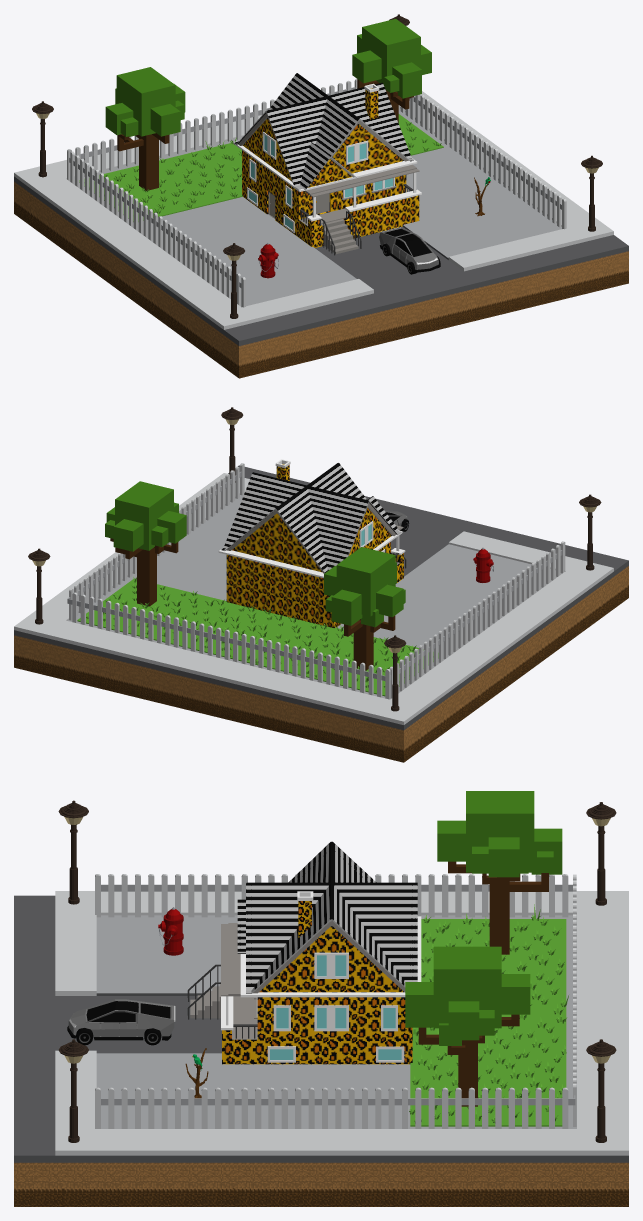
3 renders of one model, top to bottom at view 1: azimuth 30°, elevation 25°; view 2: azimuth 150°, elevation 25°; view 3: azimuth 270°, elevation 25°, orthographic. The views are drawn at different scales.
Visible parts, largest first — view 1: Cube.004, Cube.637, VEHICLES_CYBERTRUCK, OBJRANDOM_FIRE_HYDRANT; view 2: Cube.004, Cube.637, OBJRANDOM_FIRE_HYDRANT; view 3: Cube.004, Cube.637, VEHICLES_CYBERTRUCK, OBJRANDOM_FIRE_HYDRANT.
Part boxes in pixels (x1,y1,x2,y2): Cube.004: [14, 14, 628, 378]; Cube.637: [233, 73, 421, 255]; VEHICLES_CYBERTRUCK: [379, 227, 440, 274]; OBJRANDOM_FIRE_HYDRANT: [258, 243, 278, 278]; Cube.004: [14, 407, 628, 762]; Cube.637: [218, 459, 406, 627]; OBJRANDOM_FIRE_HYDRANT: [473, 547, 493, 582]; Cube.004: [14, 791, 628, 1206]; Cube.637: [187, 841, 421, 1064]; VEHICLES_CYBERTRUCK: [67, 999, 175, 1045]; OBJRANDOM_FIRE_HYDRANT: [158, 907, 183, 955].
Bounding box in the file's own units: 4000 × 1601 × 4000.
Materials: 36 (4 with a texture image).
